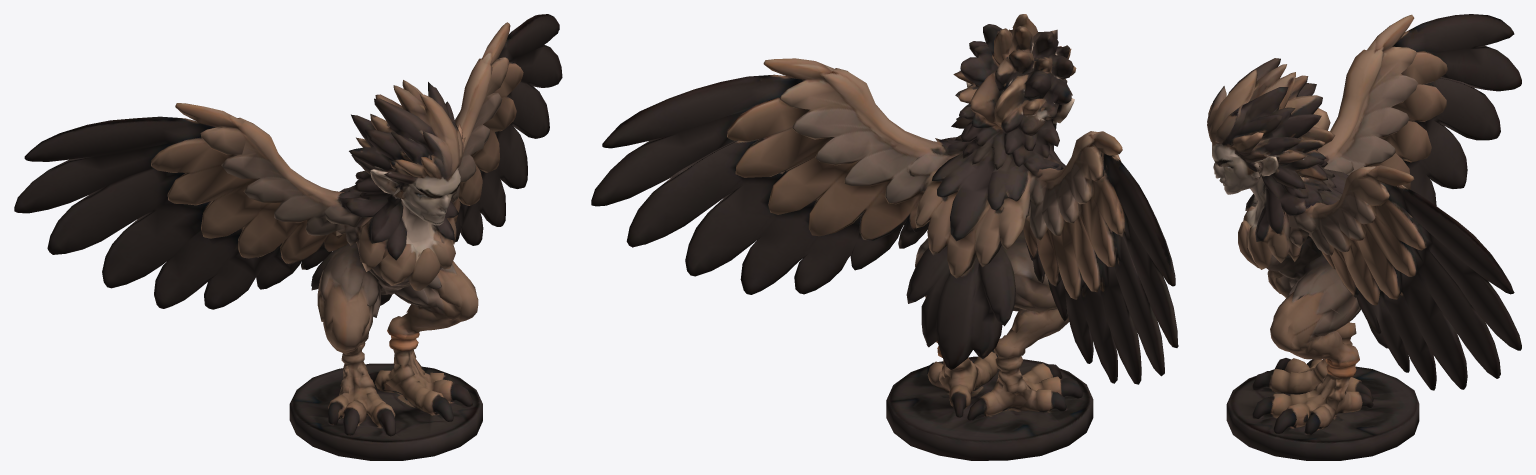
File: harpy-tripo-c756522c-retopo-6800.glb
3 renders of one model, left to right at view 1: azimuth 30°, elevation 25°; view 2: azimuth 150°, elevation 25°; view 3: azimuth 270°, elevation 25°, orthographic. The views are drawn at different scales.
Visible parts, largest first — view 1: tripo_node_75091185-4037-4651-ad4b-12b35e2bc847; view 2: tripo_node_75091185-4037-4651-ad4b-12b35e2bc847; view 3: tripo_node_75091185-4037-4651-ad4b-12b35e2bc847.
Part boxes in pixels (box(x1,y1,x2,y2)): tripo_node_75091185-4037-4651-ad4b-12b35e2bc847: box(14, 14, 562, 460); tripo_node_75091185-4037-4651-ad4b-12b35e2bc847: box(591, 14, 1178, 460); tripo_node_75091185-4037-4651-ad4b-12b35e2bc847: box(1207, 14, 1521, 460).
Size of the model in its own units: 0.9765 by 0.602 by 0.4873.
1 material, 1 textured.
